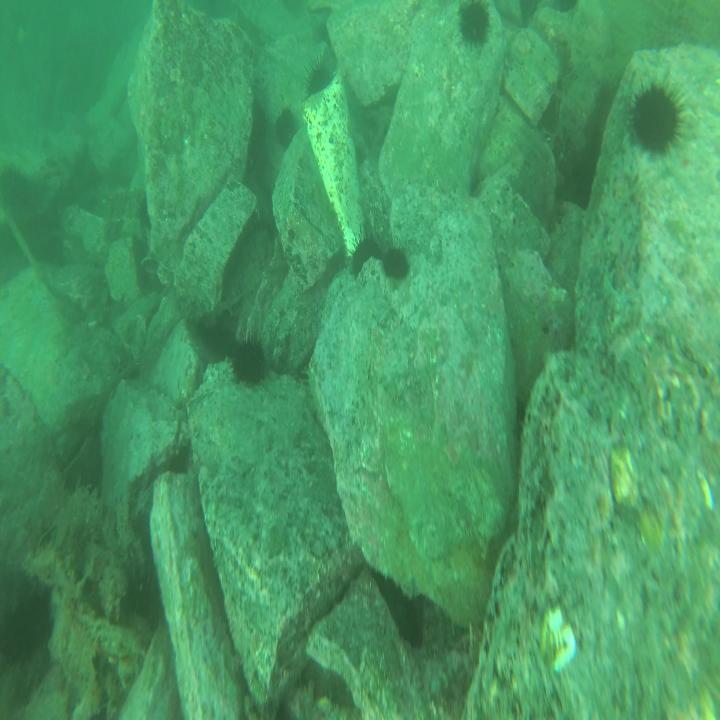echinus: (1, 588, 52, 660), (632, 85, 683, 155), (458, 3, 493, 52), (234, 338, 266, 386), (351, 232, 382, 280), (383, 245, 410, 287), (305, 62, 331, 102), (275, 107, 299, 149)
